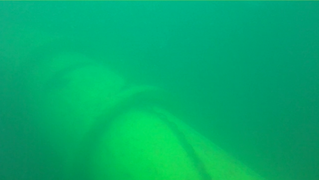1: (41, 61, 94, 92)
pipe: (1, 5, 268, 179)
